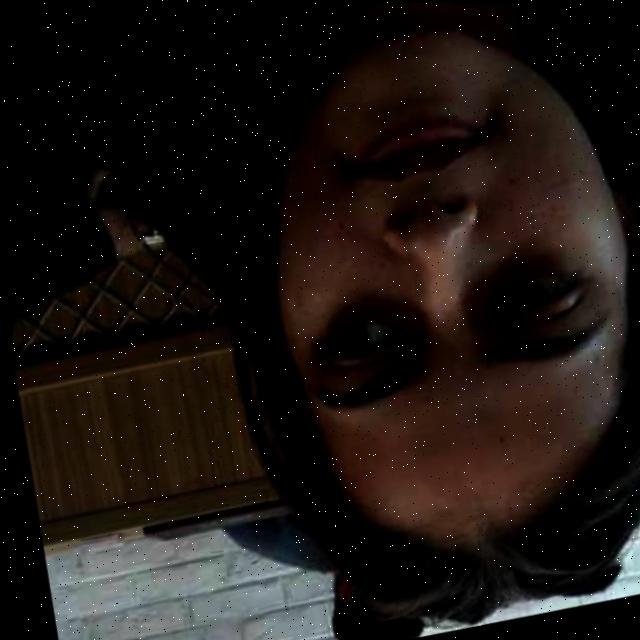puffy_eyes: (465, 257, 557, 332), (326, 298, 421, 340)
